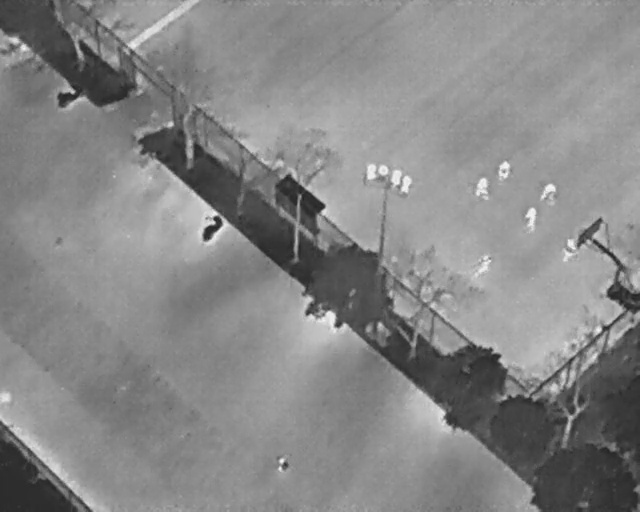Bicycle: (49, 77, 88, 112), (194, 211, 228, 248)
Person: (539, 182, 557, 206), (562, 237, 578, 262), (476, 253, 492, 276), (524, 205, 537, 231), (476, 176, 488, 201), (498, 160, 512, 181), (275, 456, 289, 474)
